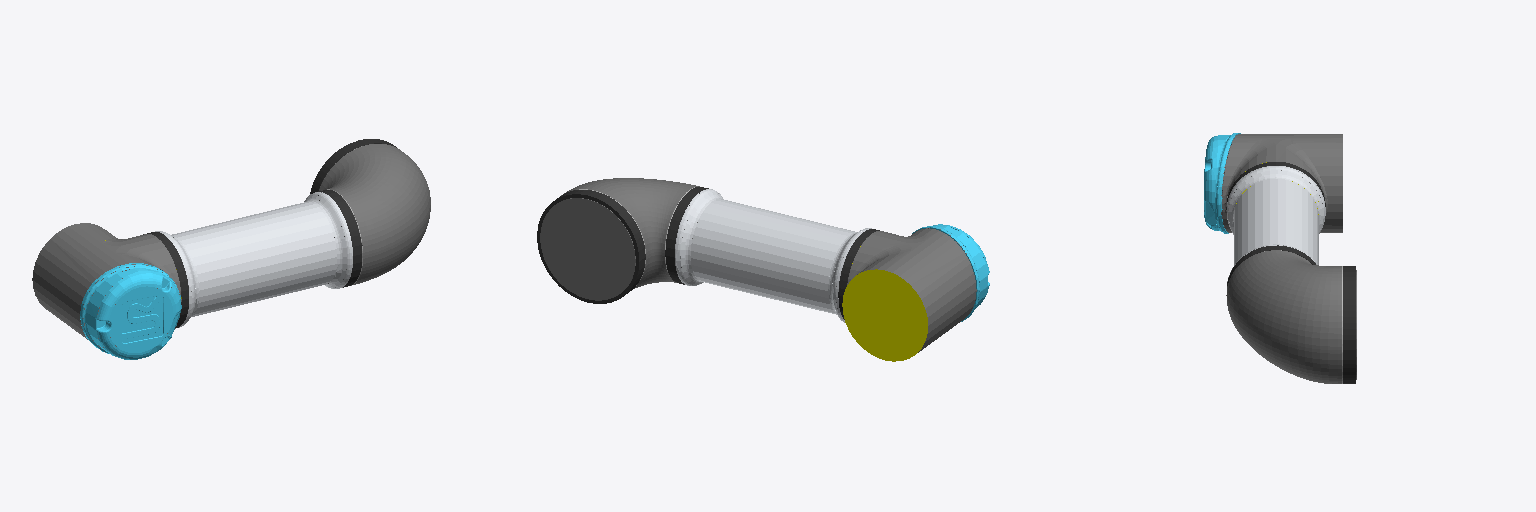
The model's file is ELBOW_m.obj.
3 views of the same model, side by side, from view 1: azimuth 30°, elevation 25°; view 2: azimuth 150°, elevation 25°; view 3: azimuth 270°, elevation 25° (orthographic).
Size of the model in its own units: 0.2828 by 0.075 by 0.097.